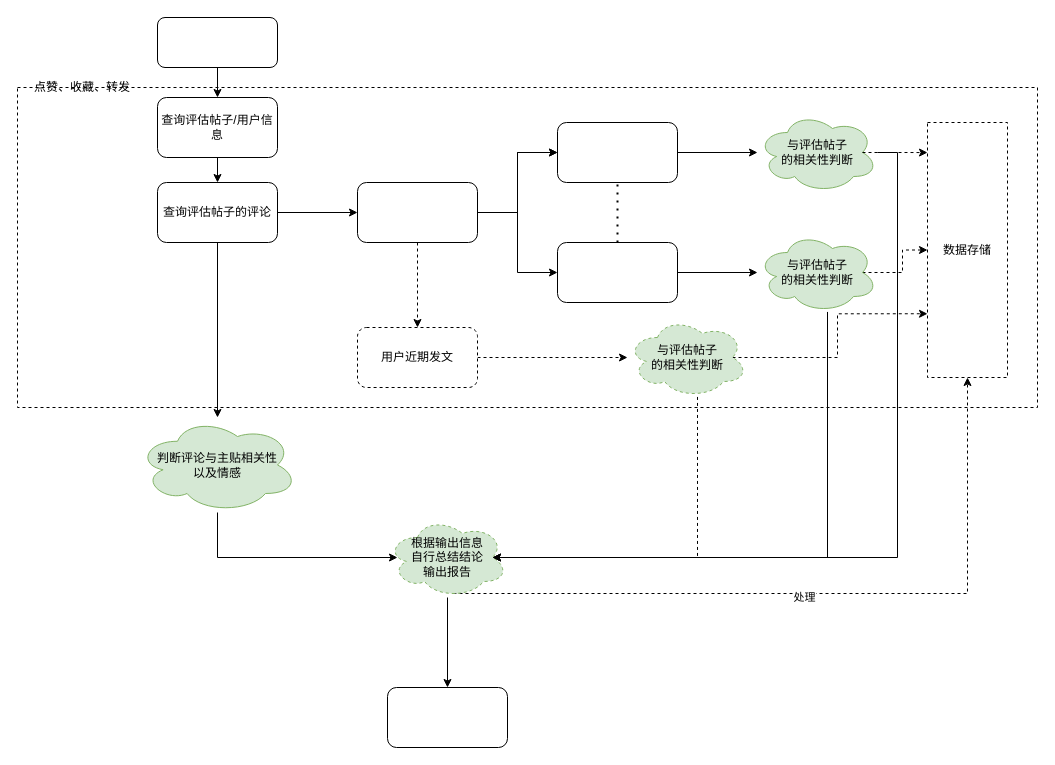
Some shapes in this 1055 by 765 pixel diagram are drawn without their labels. The shapes that lost their labels are listed below. From the top down, each one's centre as x and y in pixels, then its label:
[217,42]: 评估帖子ID
[617,152]: 近期评论
[417,212]: 评估帖子的评论用户
[617,272]: 近期评论正文
[447,717]: 结束
